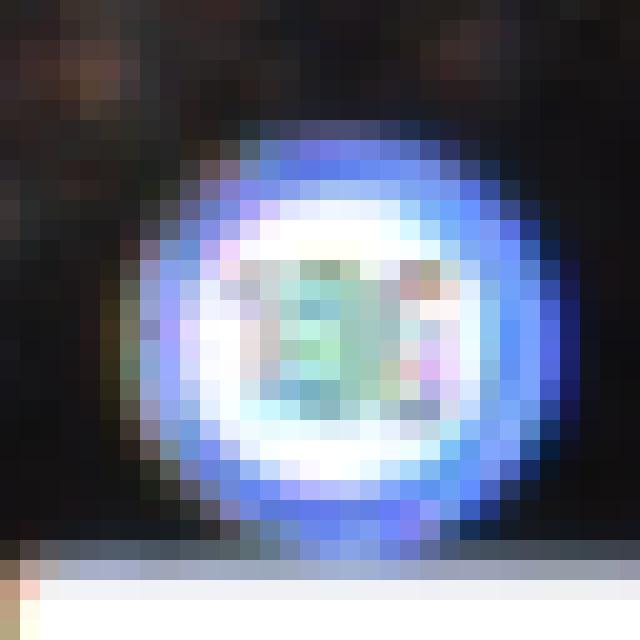SPEED LIMIT 100: (134, 137, 566, 559)
